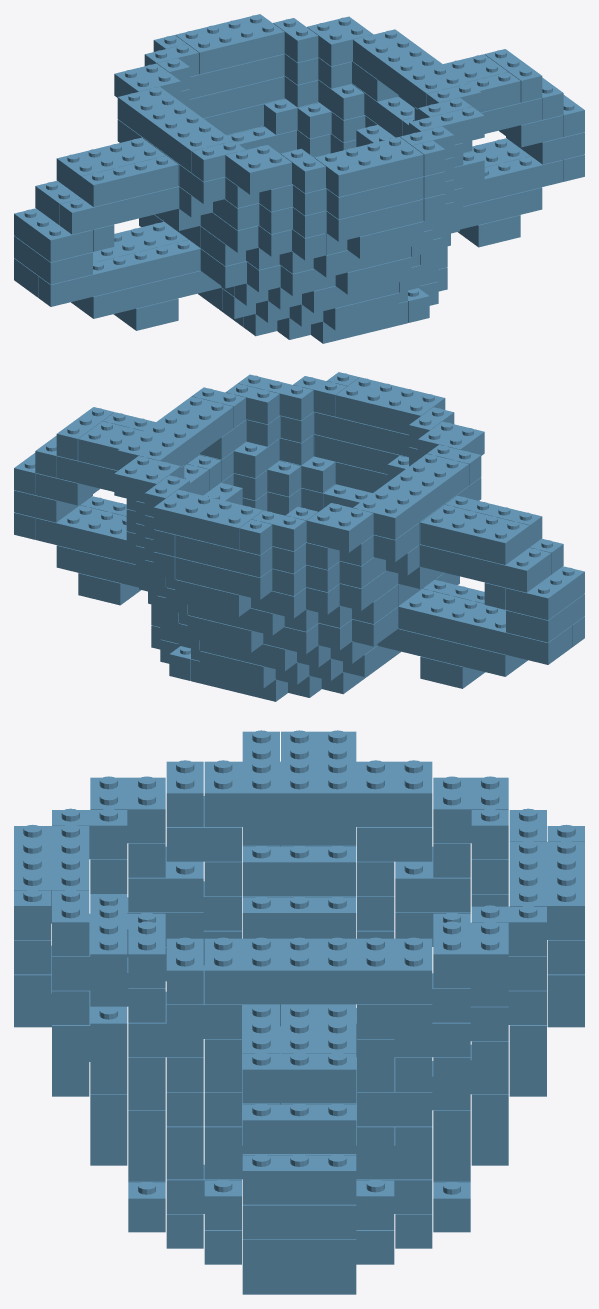
The model's file is collab_pot-L5V5_raw.glb.
3 views of the same model, one above another, from view 1: azimuth 30°, elevation 25°; view 2: azimuth 150°, elevation 25°; view 3: azimuth 270°, elevation 25° (orthographic). The views are drawn at different scales.
Bounding box in the file's own units: 24.98 × 9.13 × 14.98.
